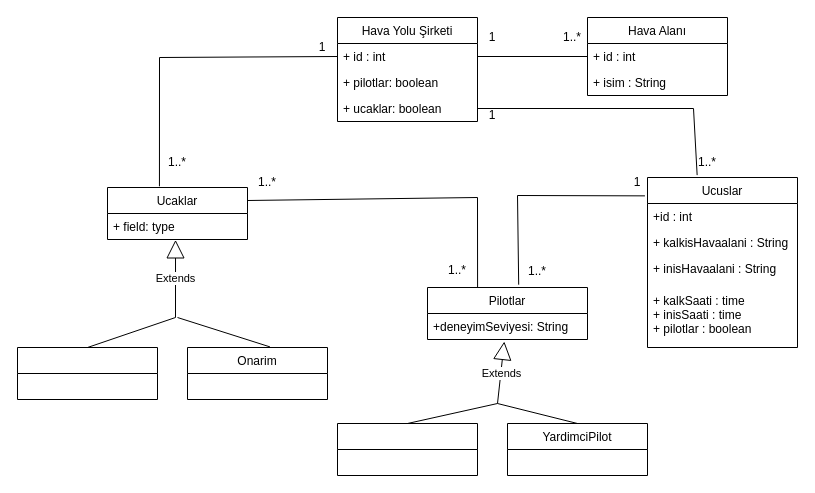
Image size: 815x493. Some labels were removed from this diagram. The shapes that lost their labels are listed below. From the top down, each one's centre as x and y in pixels, then its label:
point (87, 373): Calisir
point (407, 449): Pilot
